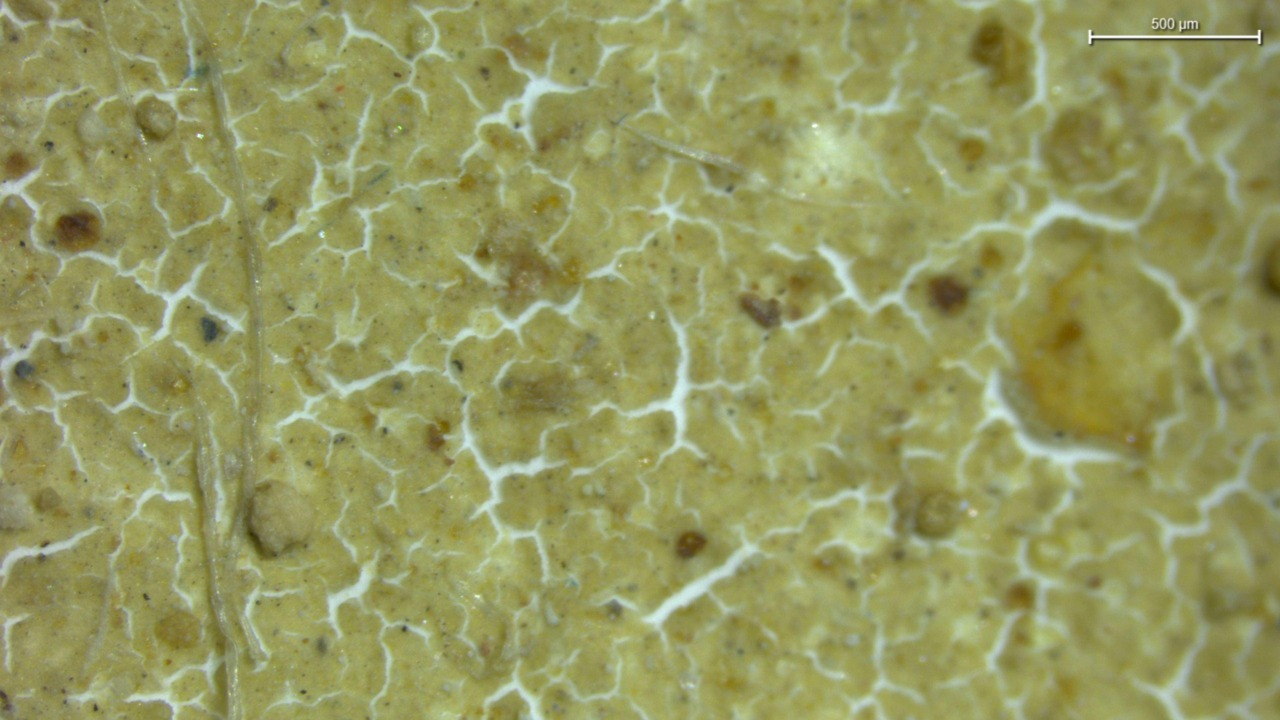microplastic_fragment: (249, 481, 323, 558), (139, 101, 176, 141)
